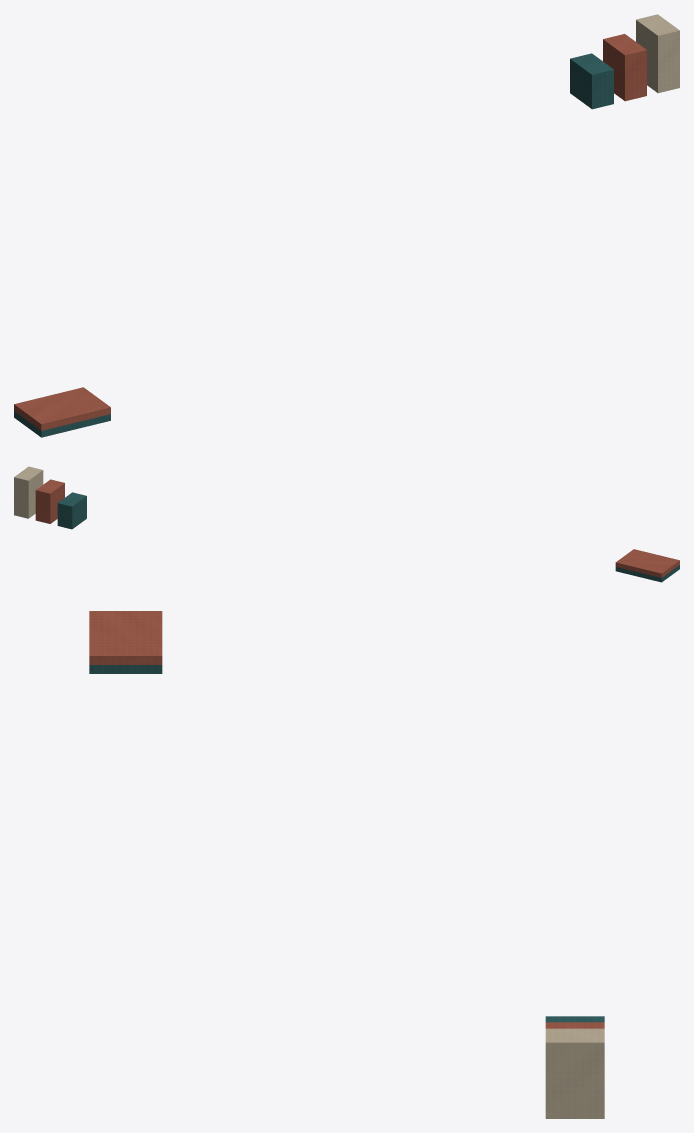
The model's file is detail_props.glb.
The picture shows the model from 3 angles, top to bottom: view 1: azimuth 30°, elevation 25°; view 2: azimuth 150°, elevation 25°; view 3: azimuth 270°, elevation 25°; orthographic projection. The views are drawn at different scales.
Parts seen in each view (by area): view 1: SUI_DeskBook_2, SUI_TableBook_1, SUI_DeskBook_1, SUI_DeskBook_0, SUI_TableBook_0; view 2: SUI_DeskBook_2, SUI_TableBook_1, SUI_DeskBook_1, SUI_DeskBook_0, SUI_TableBook_0; view 3: SUI_DeskBook_2, SUI_TableBook_1.
Boxes of the visible parts, bbox=[...] form: SUI_DeskBook_2: bbox=[636, 14, 679, 93]; SUI_TableBook_1: bbox=[14, 387, 110, 430]; SUI_DeskBook_1: bbox=[603, 34, 646, 101]; SUI_DeskBook_0: bbox=[570, 53, 613, 109]; SUI_TableBook_0: bbox=[14, 411, 110, 437]; SUI_DeskBook_2: bbox=[14, 466, 43, 518]; SUI_TableBook_1: bbox=[615, 549, 679, 577]; SUI_DeskBook_1: bbox=[35, 479, 64, 523]; SUI_DeskBook_0: bbox=[57, 492, 86, 529]; SUI_TableBook_0: bbox=[615, 565, 679, 582]; SUI_DeskBook_2: bbox=[545, 1028, 604, 1118]; SUI_TableBook_1: bbox=[89, 611, 162, 664].
Size of the model in its own units: 4.43 by 0.435 by 1.84.
Materials: 3 (3 with a texture image).
